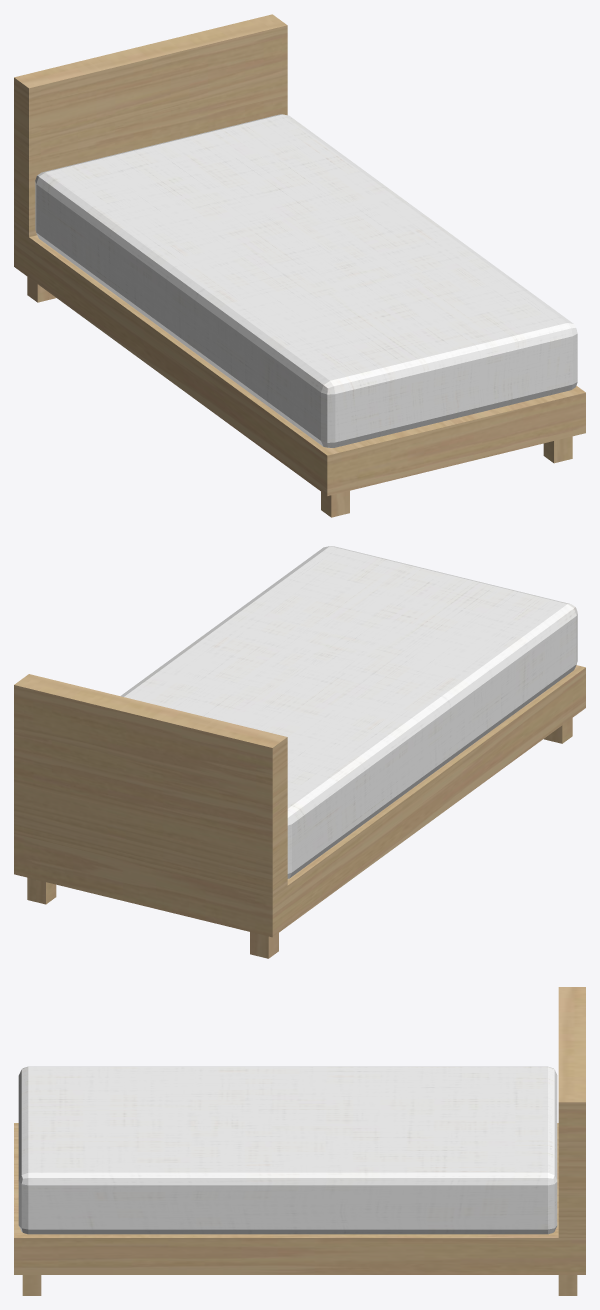
The model's file is bed.gltf.
3 views of the same model, one above another, from view 1: azimuth 30°, elevation 25°; view 2: azimuth 150°, elevation 25°; view 3: azimuth 270°, elevation 25° (orthographic). The views are drawn at different scales.
Parts seen in each view (by area): view 1: Cube; view 2: Cube; view 3: Cube.
Boxes of the visible parts, x1,y1,x2,y2 form: Cube: (14, 14, 585, 517); Cube: (14, 546, 585, 958); Cube: (14, 987, 585, 1295).
Size of the model in its own units: 1 by 0.8 by 2.1.
2 materials, 2 textured.
